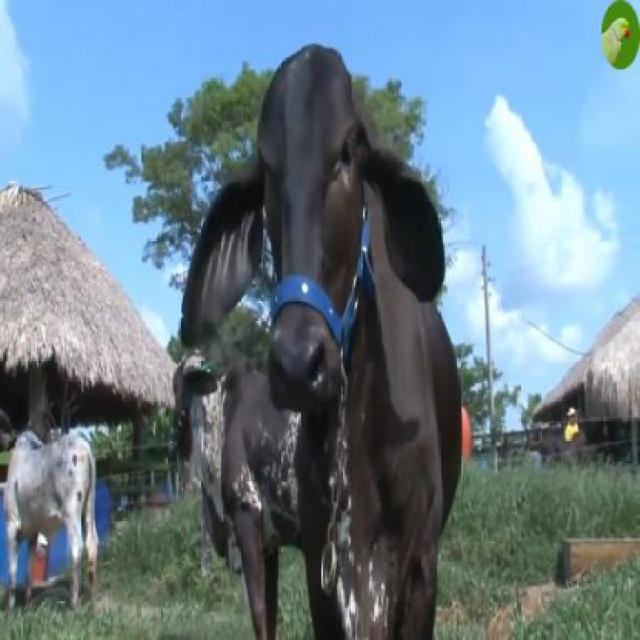Cow: (177, 46, 463, 639)
